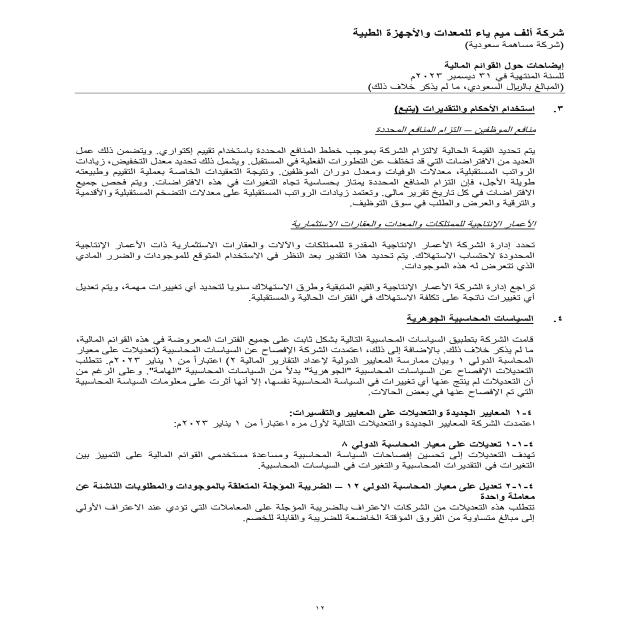notes: (438, 59, 574, 72)
text: (57, 103, 574, 538)
